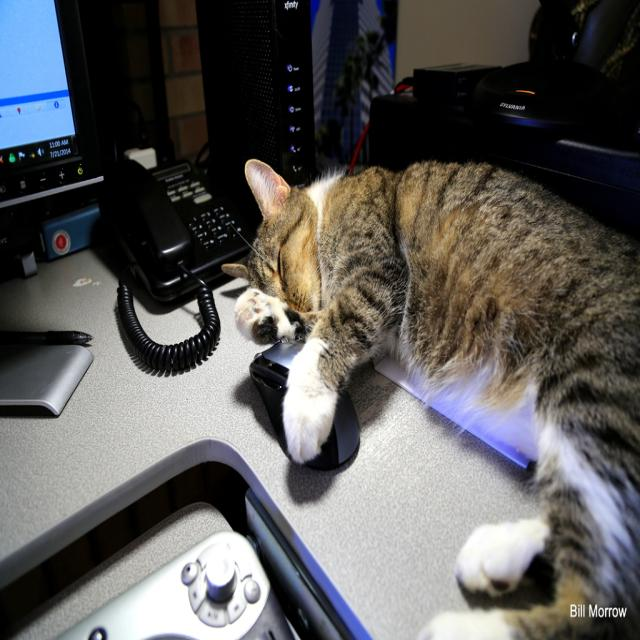Cat: (219, 160, 639, 638)
